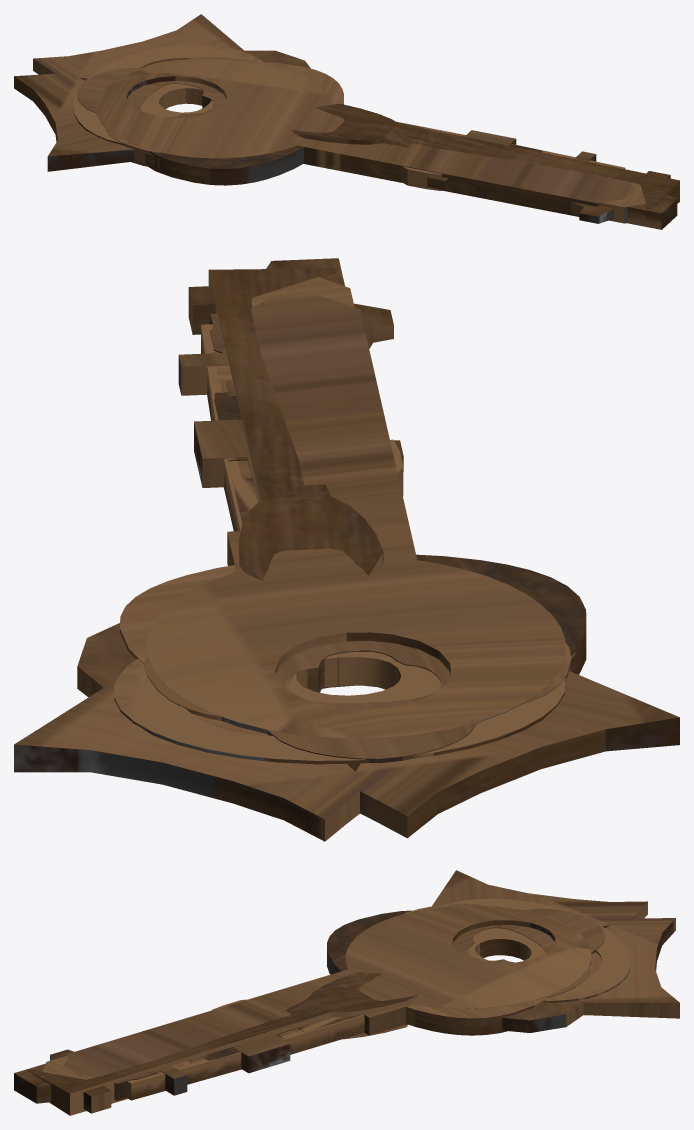
File: chavya.fbx
3 renders of one model, top to bottom at view 1: azimuth 30°, elevation 25°; view 2: azimuth 150°, elevation 25°; view 3: azimuth 270°, elevation 25°, orthographic. The views are drawn at different scales.
Parts seen in each view (by area): view 1: keys_vintage_set.008, keys_vintage_set.007, keys_vintage_set.003, keys_vintage_set.001, keys_vintage_set.004, keys_vintage_set.006; view 2: keys_vintage_set.008, keys_vintage_set.007, keys_vintage_set.001, keys_vintage_set.004, keys_vintage_set.003, keys_vintage_set.006; view 3: keys_vintage_set.008, keys_vintage_set.007, keys_vintage_set.003, keys_vintage_set.004, keys_vintage_set.001, keys_vintage_set.006.
Boxes of the visible parts, x1,y1,x2,y2 form: keys_vintage_set.008: (96, 59, 635, 216); keys_vintage_set.007: (14, 14, 679, 223); keys_vintage_set.003: (149, 61, 677, 229); keys_vintage_set.001: (77, 56, 645, 223); keys_vintage_set.004: (73, 44, 625, 190); keys_vintage_set.006: (140, 83, 213, 117); keys_vintage_set.008: (146, 295, 565, 738); keys_vintage_set.007: (14, 268, 679, 841); keys_vintage_set.001: (144, 277, 571, 763); keys_vintage_set.004: (114, 324, 565, 771); keys_vintage_set.003: (120, 258, 586, 692); keys_vintage_set.006: (141, 352, 440, 703); keys_vintage_set.008: (64, 905, 591, 1079); keys_vintage_set.007: (26, 870, 679, 1115); keys_vintage_set.003: (14, 910, 548, 1113); keys_vintage_set.004: (127, 898, 630, 1100); keys_vintage_set.001: (42, 903, 604, 1100); keys_vintage_set.006: (158, 928, 554, 1073).
Bounding box in the file's own units: 3.46 × 0.1981 × 4.29.
